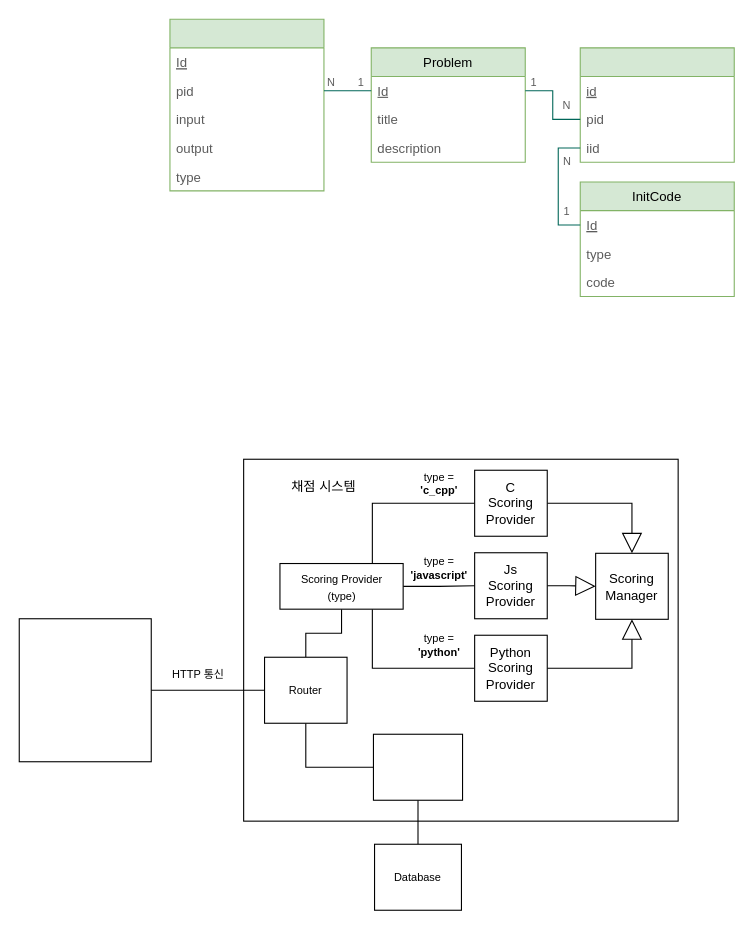
This 754x930 diagram has some shape labels left out. The shapes that lost their labels are listed below. From the top down, each one's box as (x1, y1, x2, y2) in pixels, then its label:
(169, 18, 324, 191): TestCase
(579, 47, 734, 162): _probInitcodes
(18, 618, 151, 762): 프론트엔드
(372, 733, 463, 800): Controller
